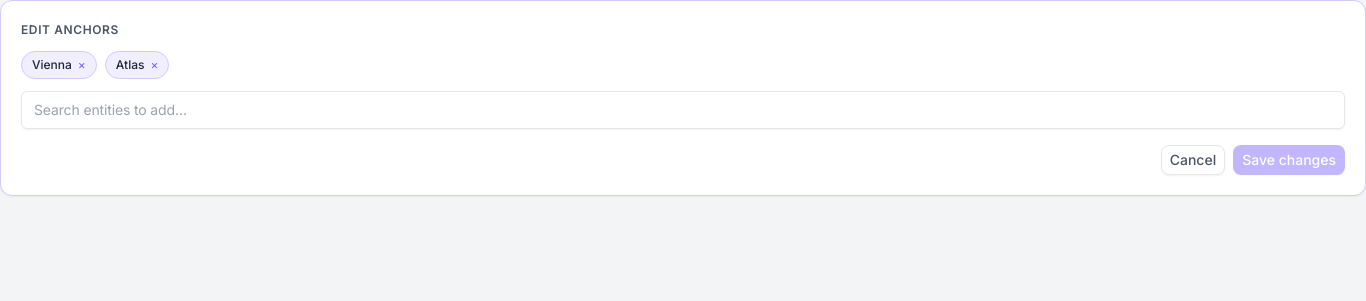
StorylineAnchorEditor › search results mark already-picked entities and toggle on click
Type "vienna" into the search field with test id "anchor-editor-search".
click(683, 110); type("vienna")  # box [21,91,1345,129]
Wait 260 ms
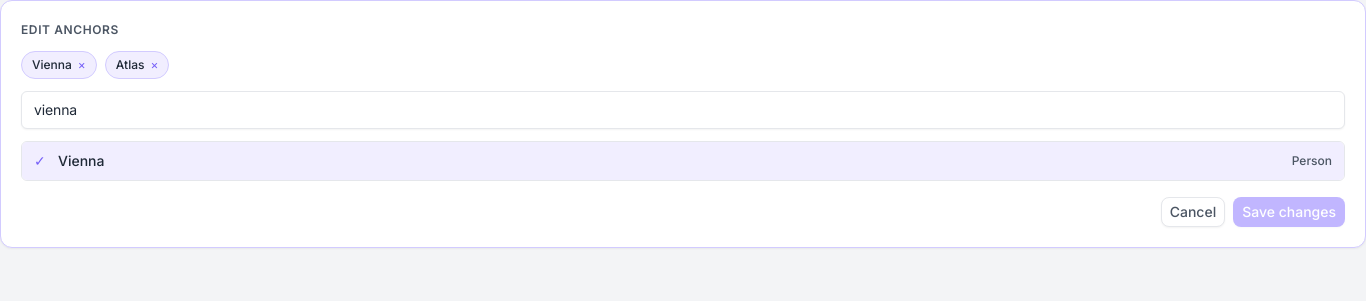
Expected: the list item with test id "anchor-editor-result" shows "✓", [34,152,46,169]
Click the list item with test id "anchor-editor-result".
click(683, 161)  # box [22,142,1344,180]
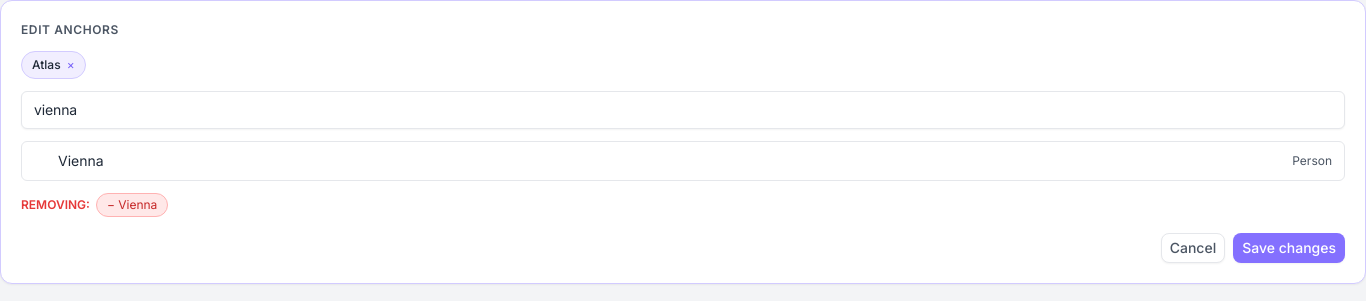
Expected: the number of elements with test id "anchor-editor-chip" is 1, [21,51,86,79]
Expected: the element with test id "anchor-diff-removed" shows "Vienna", [107,197,157,212]
